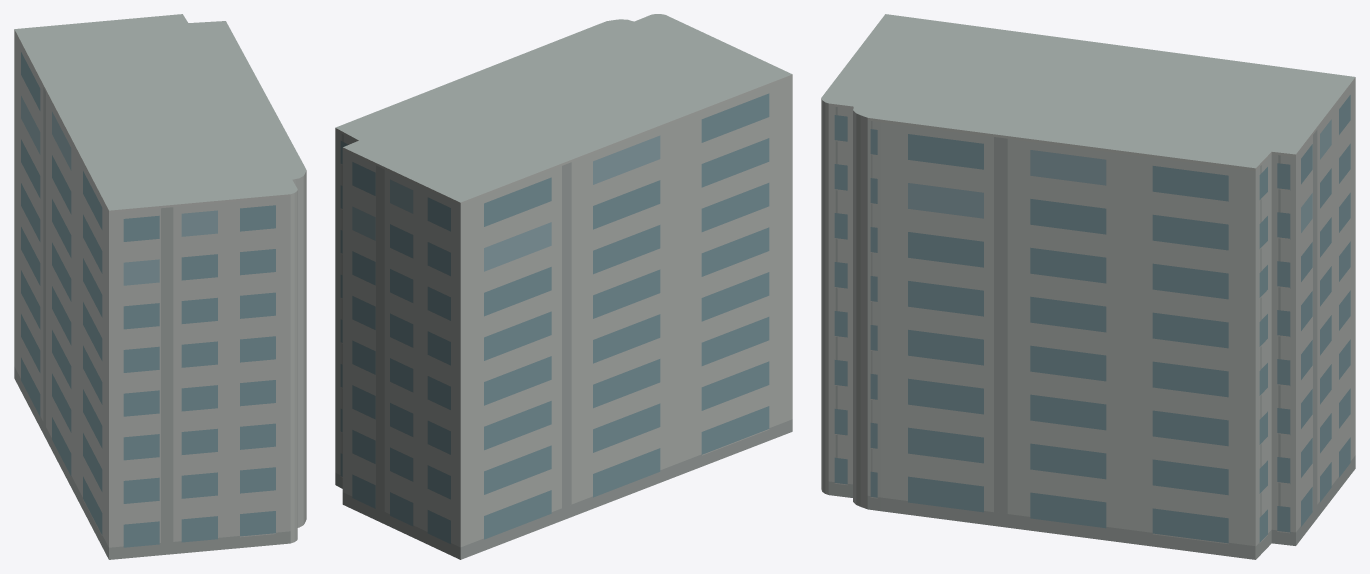
File: survey-upis-32510232.glb
3 renders of one model, left to right at view 1: azimuth 30°, elevation 25°; view 2: azimuth 150°, elevation 25°; view 3: azimuth 270°, elevation 25°, orthographic. The views are drawn at different scales.
Parts seen in each view (by area): view 1: survey-upis-32510232.tmp; view 2: survey-upis-32510232.tmp; view 3: survey-upis-32510232.tmp.
Part boxes in pixels (left/top/right/bottom): survey-upis-32510232.tmp: left=14, top=14, right=306, bottom=559; survey-upis-32510232.tmp: left=335, top=14, right=792, bottom=559; survey-upis-32510232.tmp: left=821, top=14, right=1355, bottom=559.
Size of the model in its own units: 31.01 by 36.68 by 45.36.
